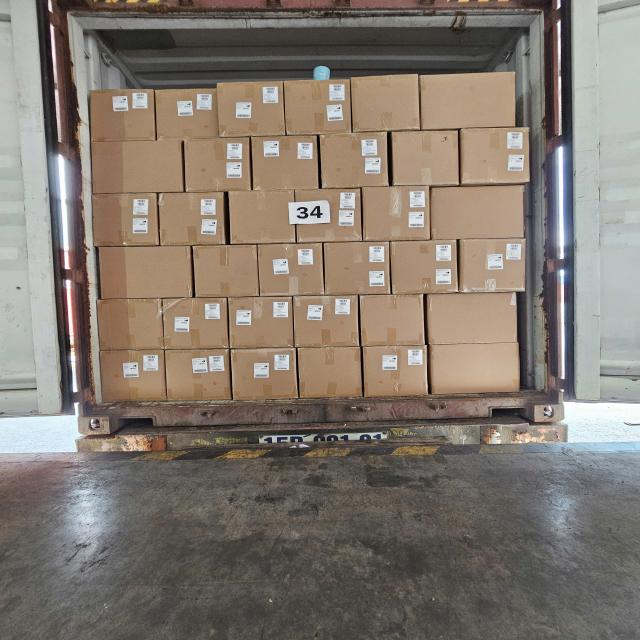Carton: (423, 69, 517, 128), (431, 185, 529, 241), (90, 138, 184, 194), (96, 247, 194, 300), (430, 342, 522, 396), (428, 295, 521, 347), (459, 127, 528, 185), (354, 71, 421, 130), (391, 128, 458, 186), (219, 82, 286, 140), (360, 187, 429, 243), (252, 135, 321, 191), (318, 131, 386, 187), (390, 240, 458, 296), (458, 239, 527, 294), (287, 81, 353, 138), (296, 190, 364, 245), (91, 192, 160, 246), (185, 137, 252, 192), (158, 192, 226, 246), (322, 242, 390, 296), (166, 348, 232, 403), (99, 349, 166, 403), (230, 190, 294, 246), (362, 344, 428, 398), (90, 90, 156, 144), (98, 297, 166, 349), (256, 245, 322, 298), (298, 345, 364, 398), (292, 298, 359, 350), (227, 299, 292, 352), (194, 247, 259, 300), (166, 296, 230, 349), (156, 89, 220, 142), (361, 297, 427, 348), (233, 349, 299, 400)
